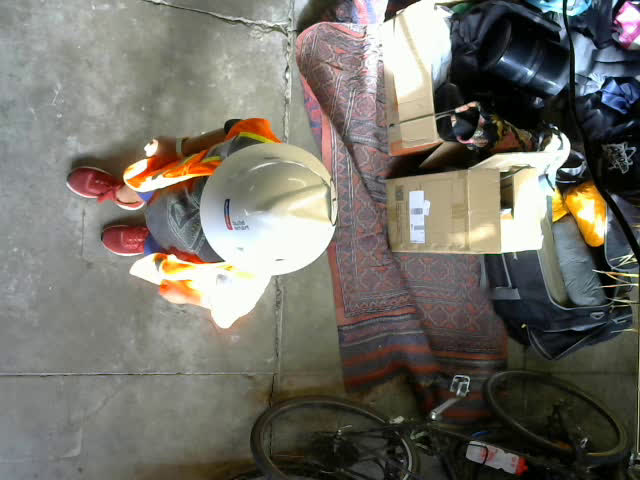one: (329, 177, 337, 224)
